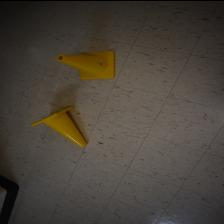cone: (31, 104, 88, 146), (55, 49, 116, 78)
